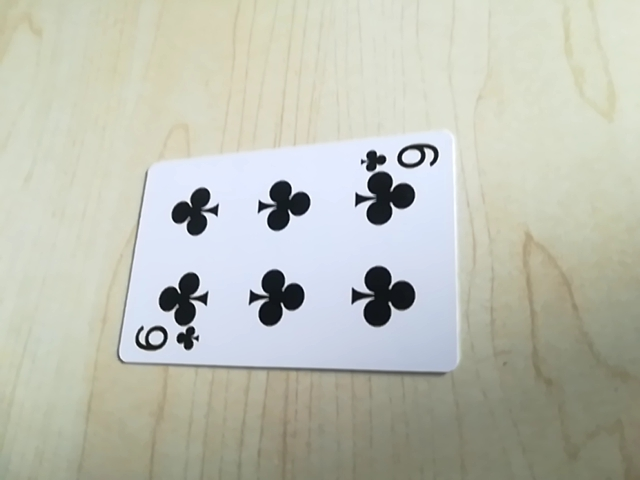mh 6: (358, 140, 444, 174), (128, 323, 200, 359)
